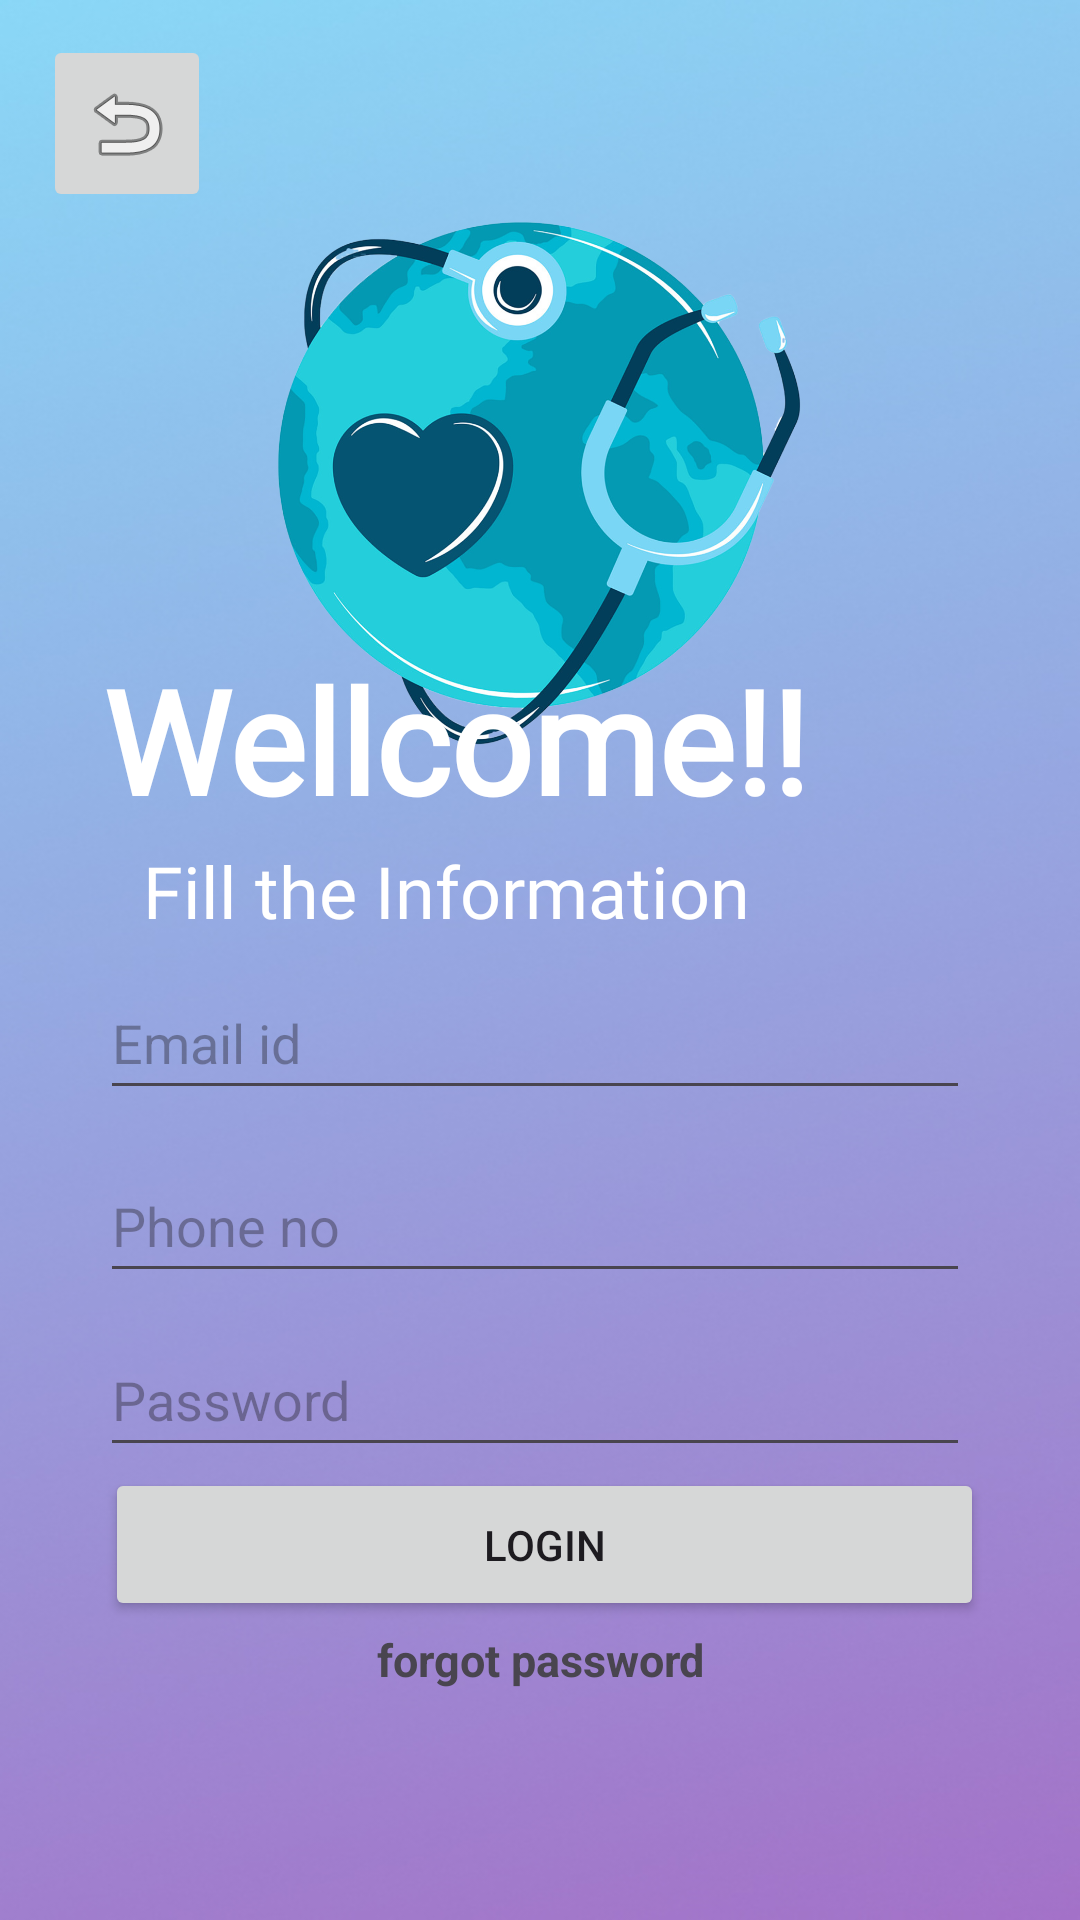

Screen size 1080w x 1920h. Icon name, then its center in pixels as (x=x, y=y):
revert: (x=127, y=123)
